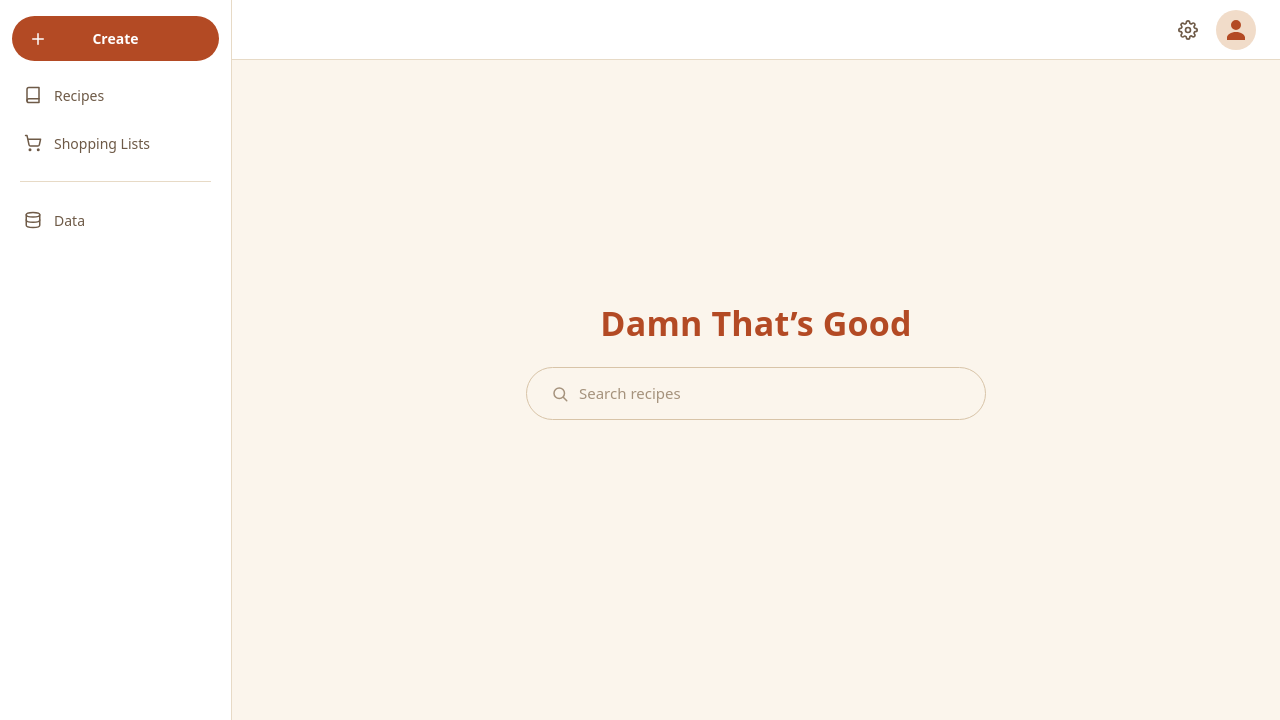
it: <AvatarMenu> › opens on click and shows the Sign out action
The width and height of the screenshot is (1280, 720).
Expected: the navigation bar named "primary" is shown, left=0, top=0, right=232, bottom=719
Step 1. Click the button named "account" → point(1236, 30), box left=1216, top=10, right=1256, bottom=50
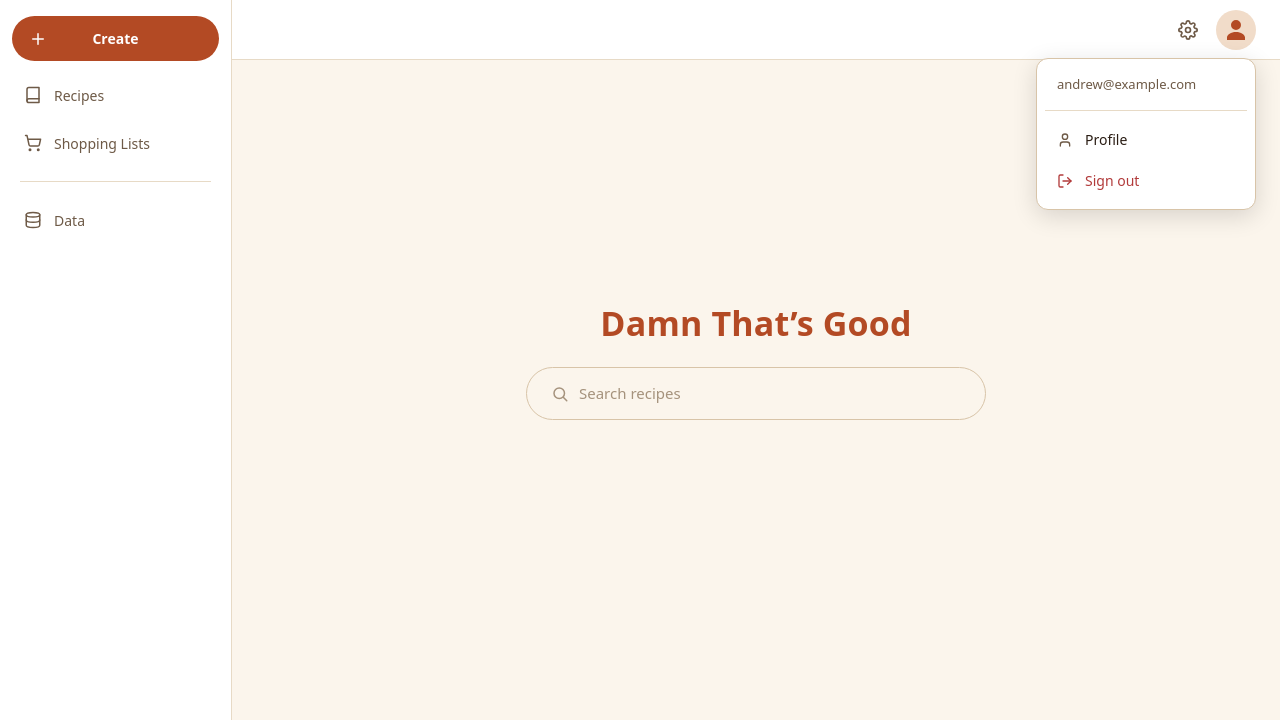
Result: the element named "account" is shown at left=1036, top=58, right=1256, bottom=210
Result: the button "Sign out" is shown at left=1045, top=160, right=1247, bottom=201
